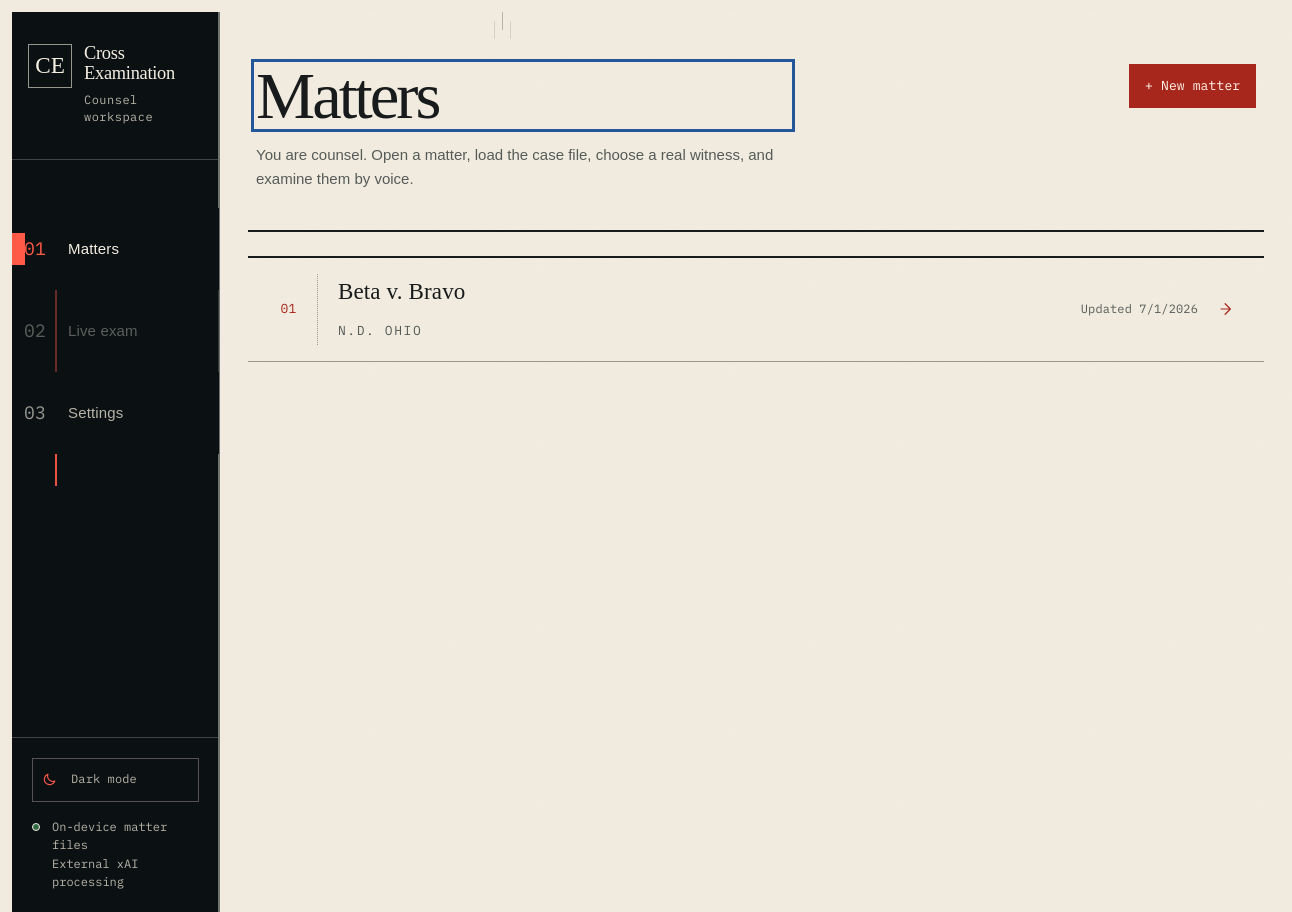
Test case: App async ownership › keeps a saved session visible and surfaces a clean deletion rejection
The width and height of the screenshot is (1292, 912).
Click the button "01 Beta v. Bravo N.D. Ohio Updated 7/1/2026": (289, 310) [248,258,1264,362]
(page scrolled)
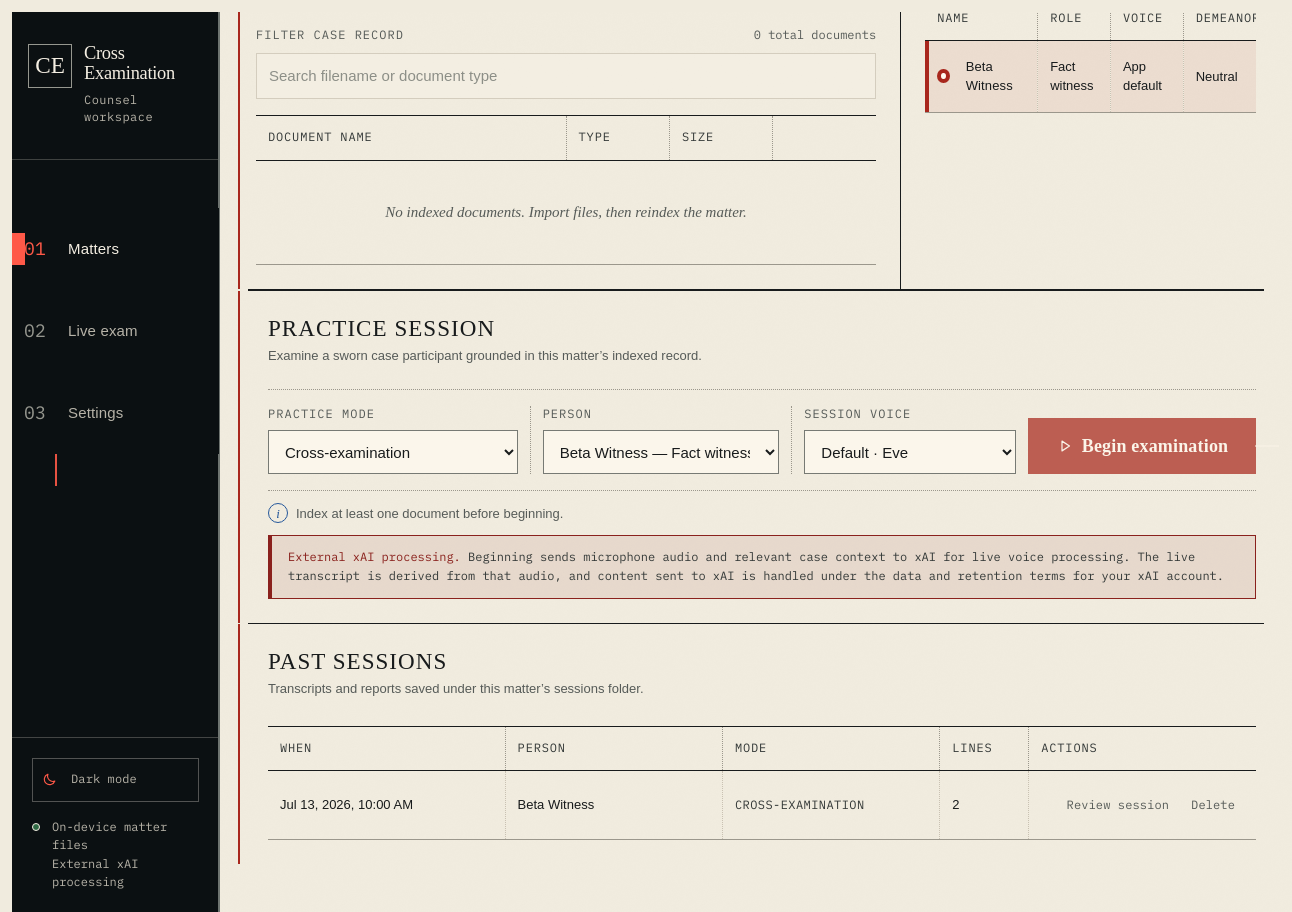
Click the button with aria-label "Delete saved session for Beta Witness": (1213, 805) [1182,783,1244,827]
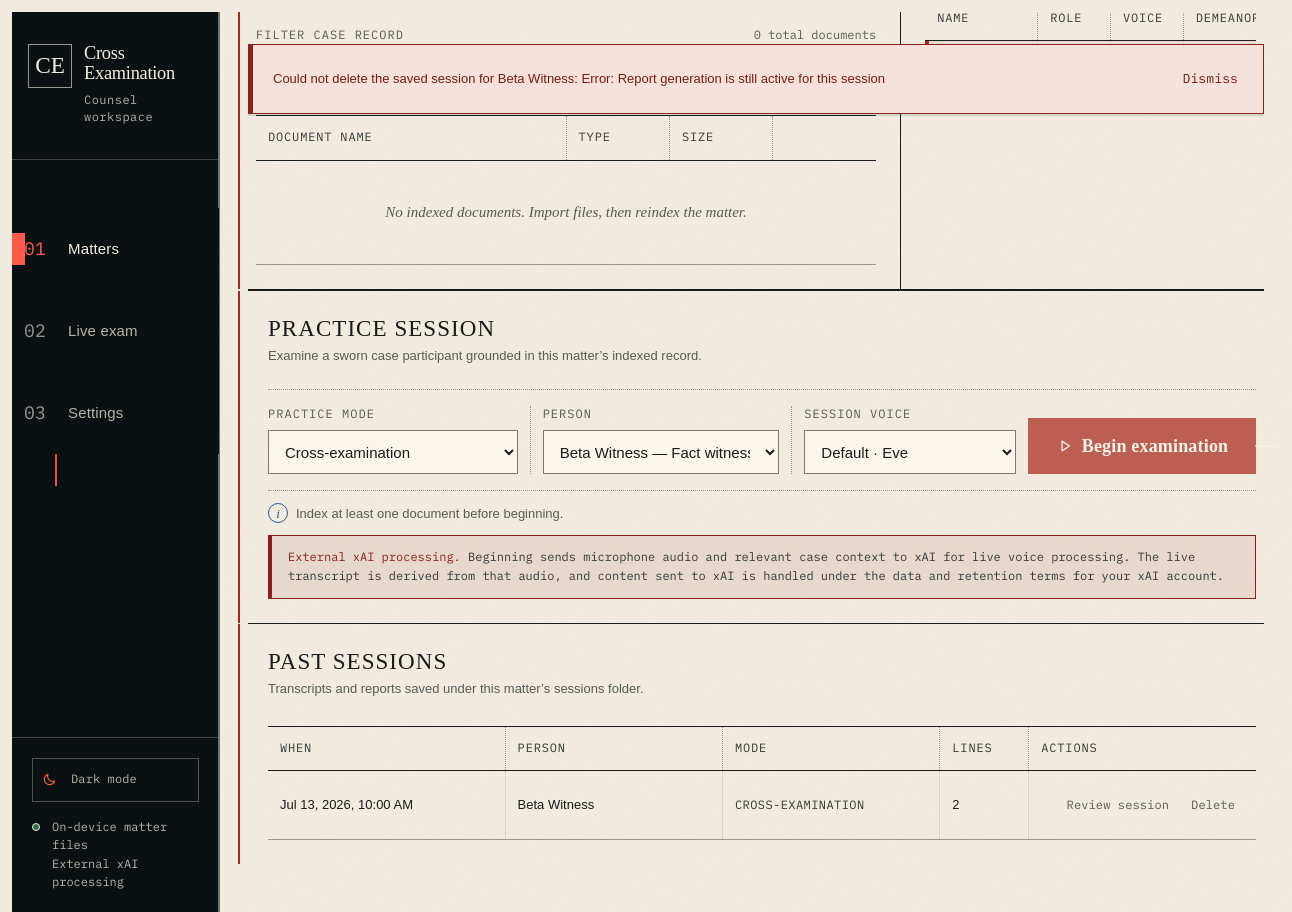
Now the button "Review session" is shown, box [1058,783,1178,827]
Now the button with aria-label "Delete saved session for Beta Witness" is enabled, box [1182,783,1244,827]
Now the text "Could not delete the saved session for Beta Witness: Error: Report generation is still active" is shown, box [273,71,885,86]
